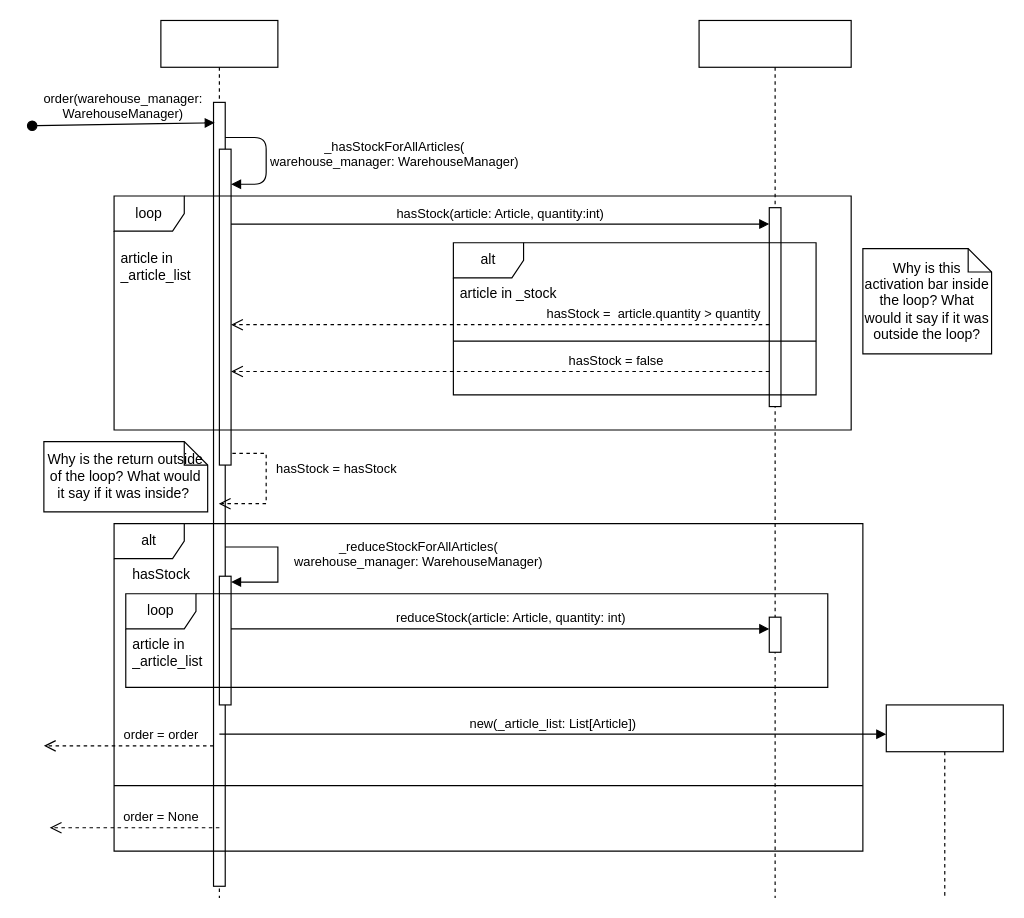
Image size: 1024x918. Some labels were removed from this diagram. The shapes that lost their labels are listed below. From the top down, each one's box as (x1, y1, x2, y2) in pixels, then its label:
(160, 19, 278, 898): :Basket
(698, 19, 851, 898): warehouse_manager :WarehouseManager
(885, 704, 1003, 898): order:Order
